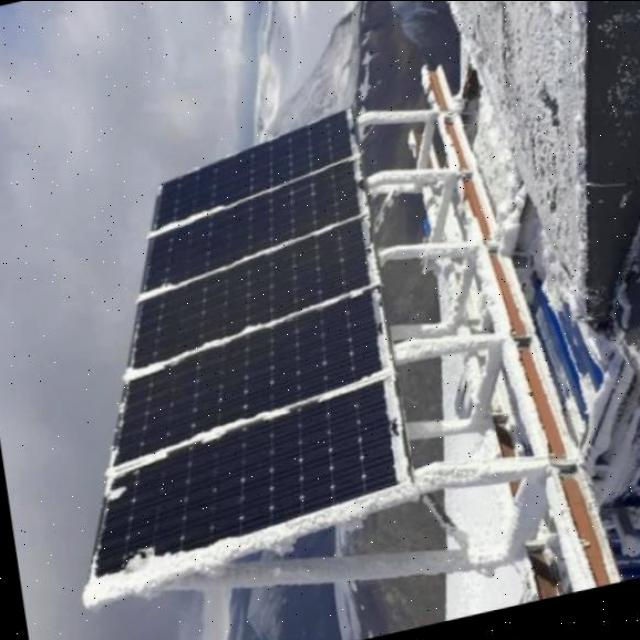Anomaly Solar Panel: (85, 379, 408, 603), (110, 289, 389, 472), (128, 219, 374, 377), (141, 161, 364, 297), (152, 112, 356, 233)
Snow: (78, 474, 416, 619), (105, 361, 394, 498), (127, 282, 375, 386), (140, 213, 365, 305), (149, 155, 354, 241)
